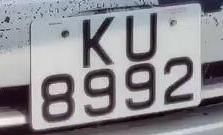2: (160, 54, 199, 110)
8: (34, 66, 83, 127)
9: (76, 63, 124, 121), (120, 60, 163, 116)
K: (77, 10, 120, 71)
U: (121, 7, 168, 65)
